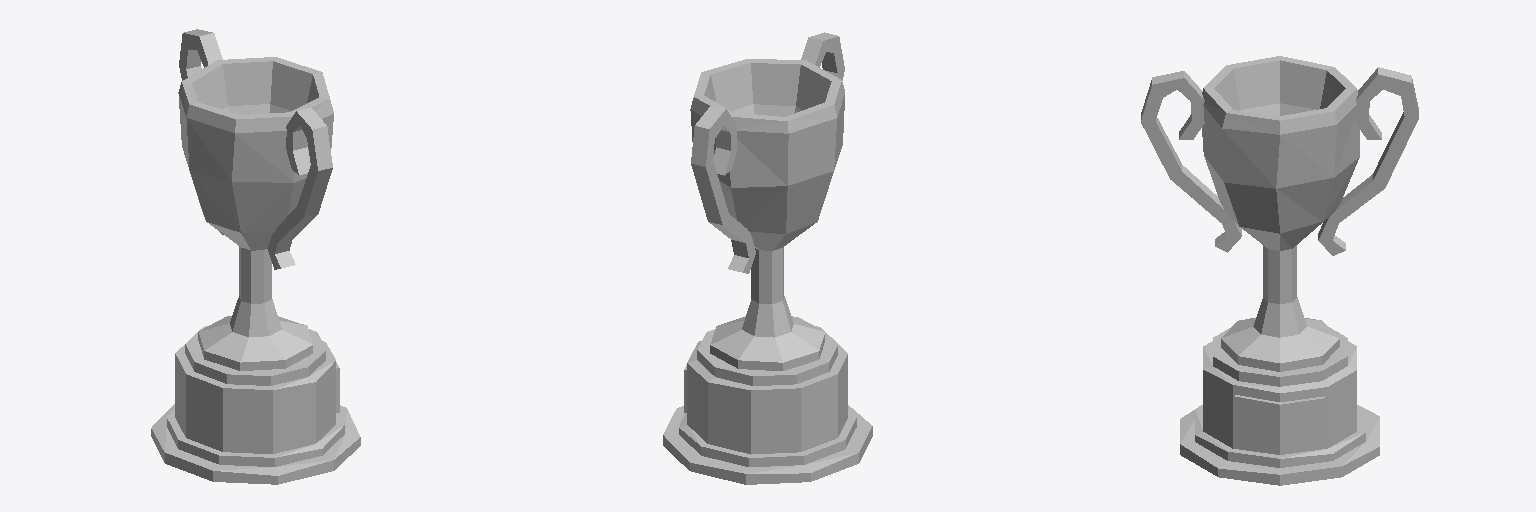
Rendered from trophy.obj.
The picture shows the model from 3 angles: view 1: azimuth 30°, elevation 25°; view 2: azimuth 150°, elevation 25°; view 3: azimuth 270°, elevation 25°; orthographic projection.
Visible parts, largest first — view 1: trophy11; view 2: trophy11; view 3: trophy11.
Boxes of the visible parts, x1,y1,x2,y2 form: trophy11: [151, 29, 360, 484]; trophy11: [663, 32, 872, 484]; trophy11: [1141, 56, 1418, 485].
Bounding box in the file's own units: 1.21 × 2.34 × 1.6.